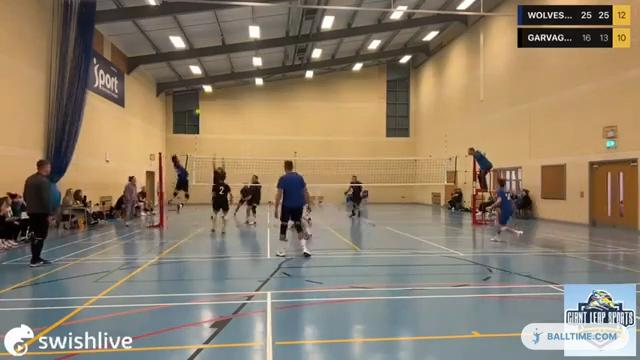attacco: (160, 147, 194, 210)
muro: (207, 151, 228, 186)
